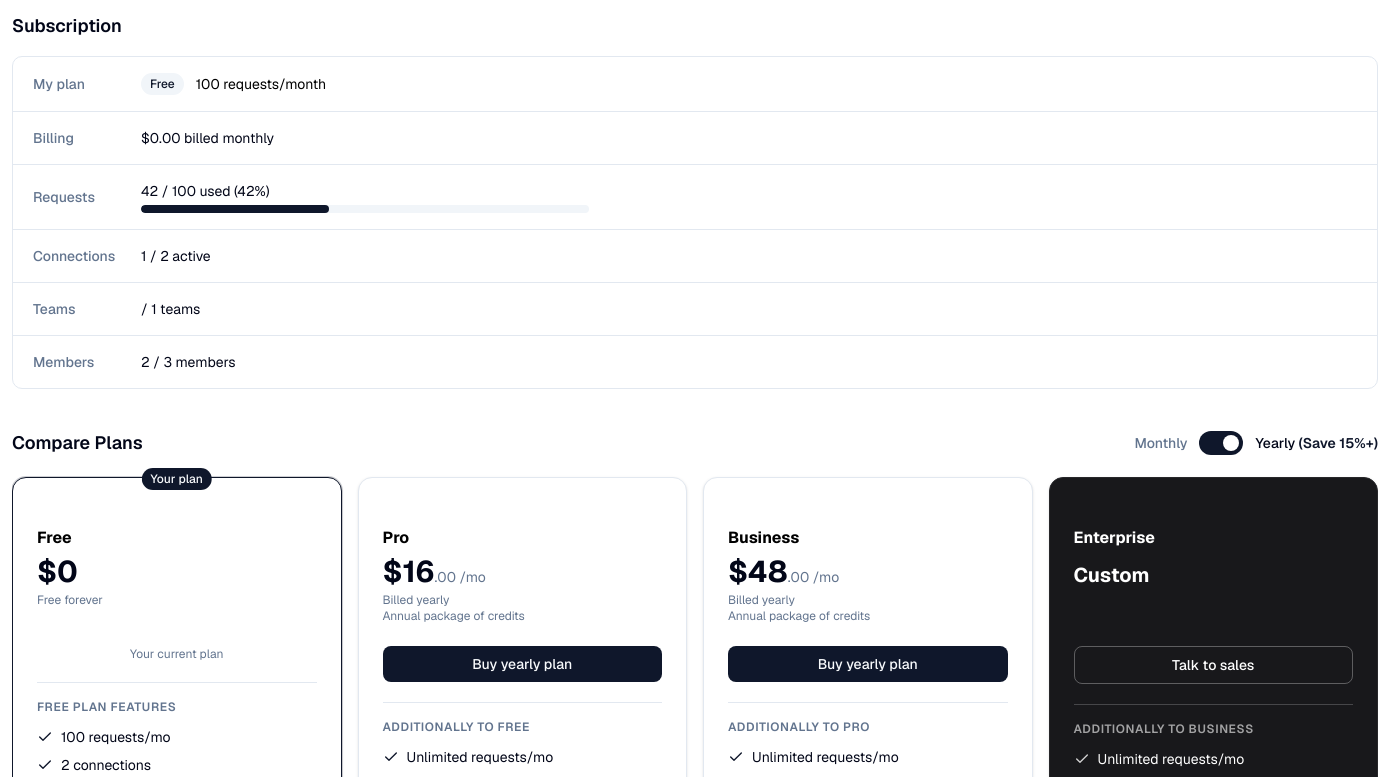
Test case: BillingDashboard › compare plans section › toggles billing cycle between yearly and monthly
Expected: the text "$16" is shown, [382,552,434,591]
Note: Click the toggle to switch to monthly.
Click the 1st button: point(1222, 443) [1200,431,1244,455]
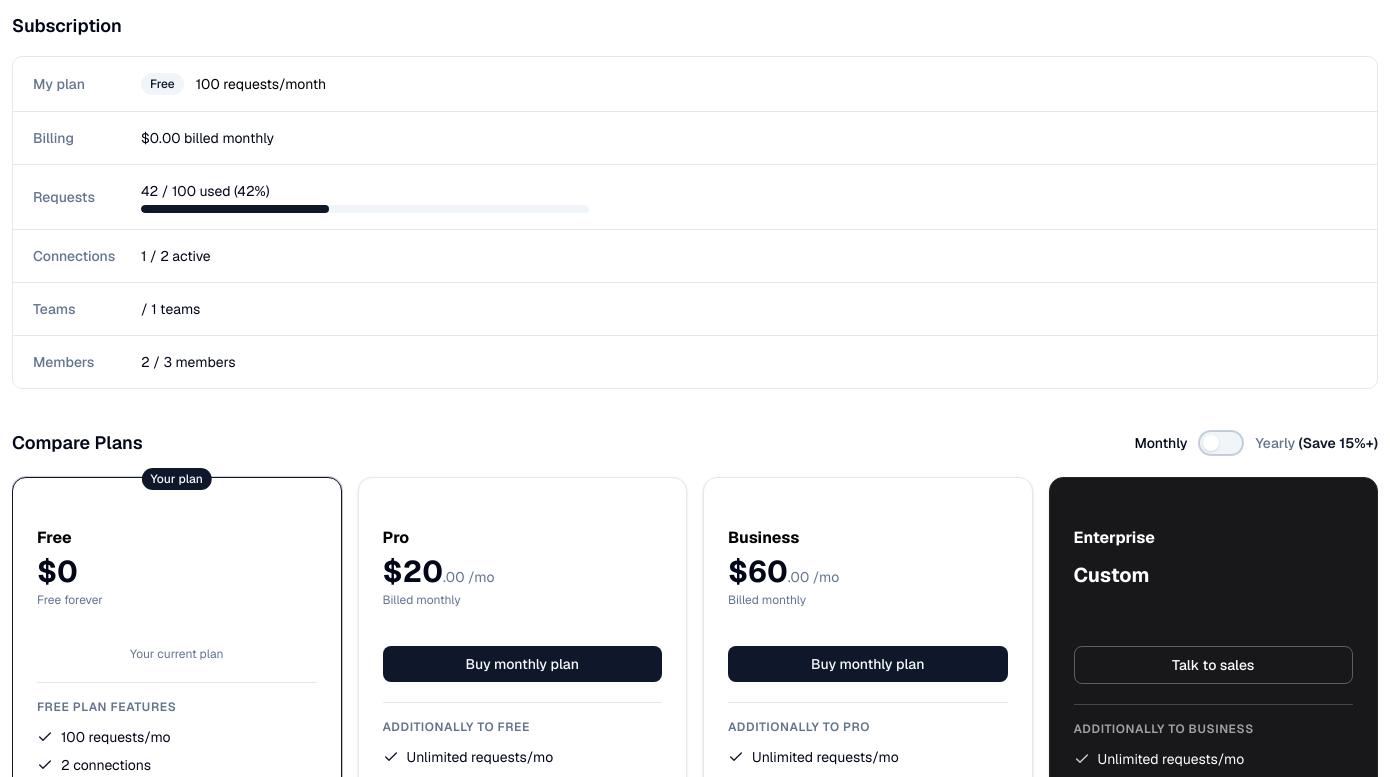
Expected: the text "$20" is shown, [382,552,443,591]
